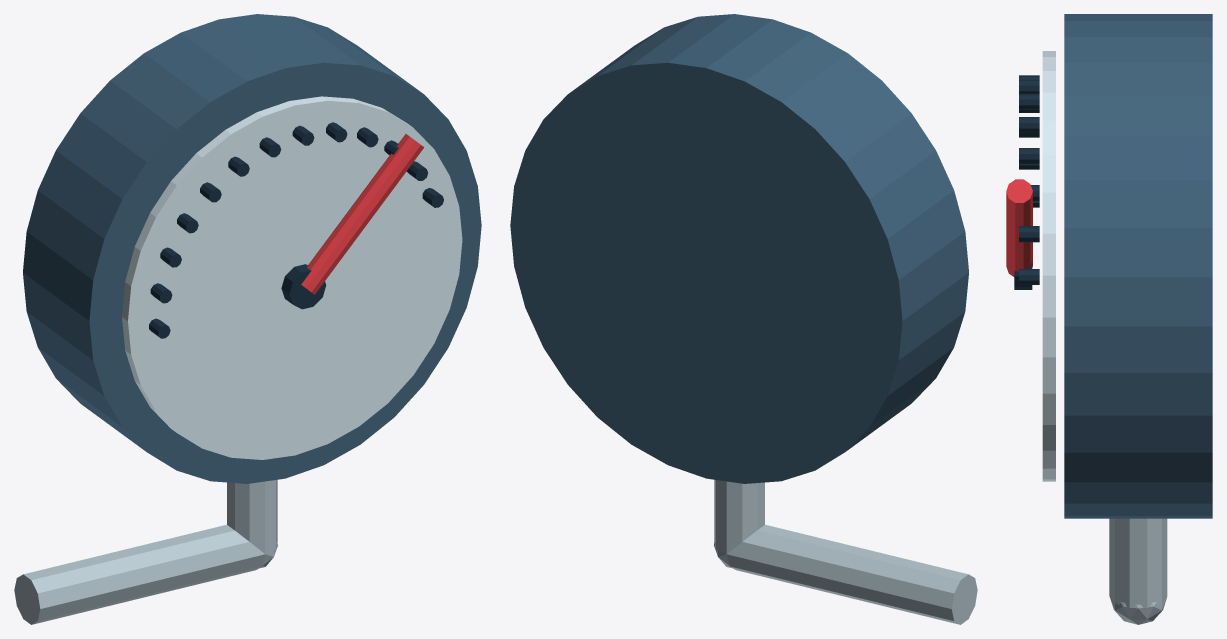
File: 31_L72_RoughVacuumPressureGauge.fbx
3 views of the same model, side by side, from view 1: azimuth 30°, elevation 25°; view 2: azimuth 150°, elevation 25°; view 3: azimuth 270°, elevation 25° (orthographic). The views are drawn at different scales.
Parts seen in each view (by area): view 1: RoughVacuumPressureGauge; view 2: RoughVacuumPressureGauge; view 3: RoughVacuumPressureGauge.
Boxes of the visible parts, x1=… form: RoughVacuumPressureGauge: x1=14, y1=14, x2=481, y2=624; RoughVacuumPressureGauge: x1=510, y1=14, x2=977, y2=624; RoughVacuumPressureGauge: x1=1006, y1=14, x2=1212, y2=624.
Size of the model in its own units: 73 by 86.9 by 27.8.
